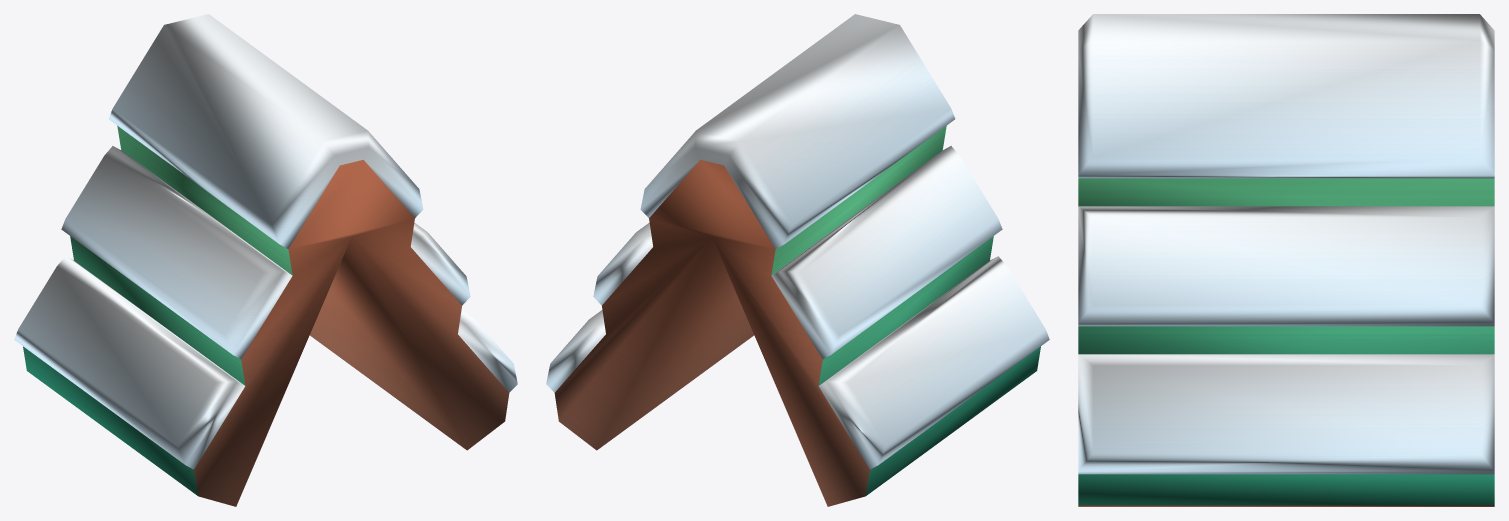
File: cabin-roof-snow-point_lev3.glb
The picture shows the model from 3 angles, left to right: view 1: azimuth 30°, elevation 25°; view 2: azimuth 150°, elevation 25°; view 3: azimuth 270°, elevation 25°; orthographic projection. The views are drawn at different scales.
Parts seen in each view (by area): view 1: cabin-roof-snow-point_lev3; view 2: cabin-roof-snow-point_lev3; view 3: cabin-roof-snow-point_lev3.
Boxes of the visible parts, x1,y1,x2,y2 form: cabin-roof-snow-point_lev3: (14, 14, 517, 506); cabin-roof-snow-point_lev3: (546, 14, 1049, 506); cabin-roof-snow-point_lev3: (1078, 14, 1494, 506).
Bounding box in the file's own units: 1.59 × 1.52 × 1.4.
Materials: 1 (1 with a texture image).
